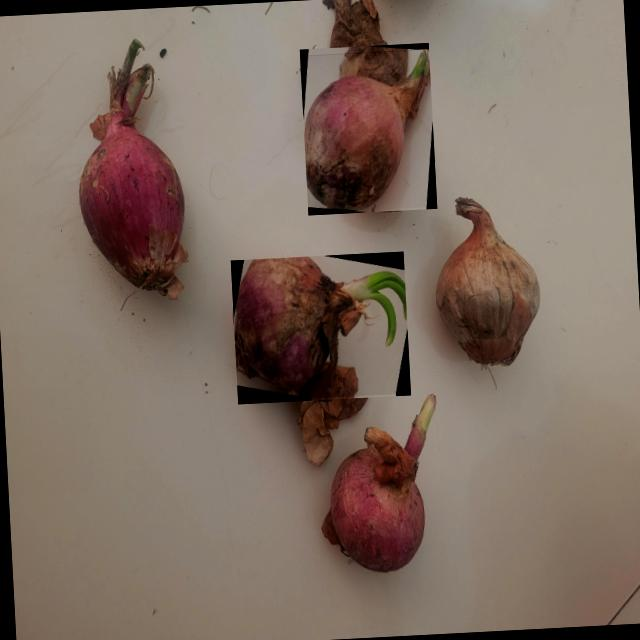rotten: (235, 257, 407, 399), (305, 51, 431, 211)
